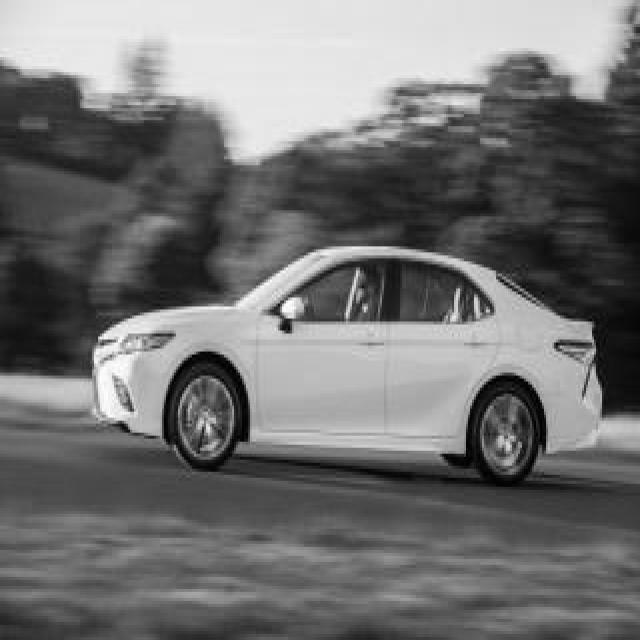Car: (92, 248, 602, 483)
